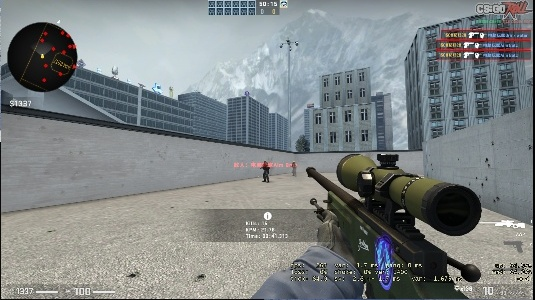body: (260, 161, 270, 182), (291, 161, 297, 178)
head: (263, 160, 268, 166), (292, 160, 296, 165)
